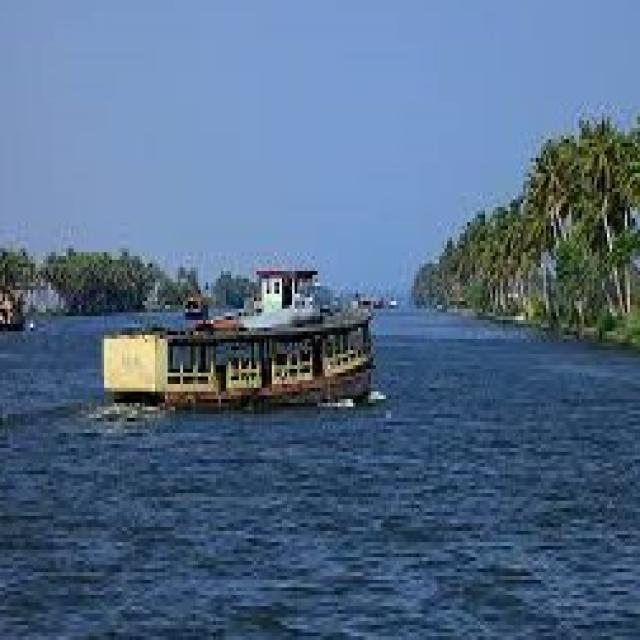houseboat: (106, 247, 391, 397)
